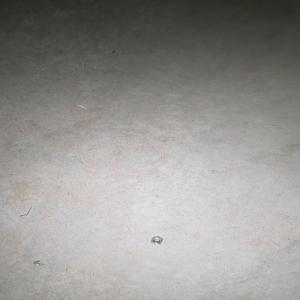Nut: (149, 236, 164, 244)
